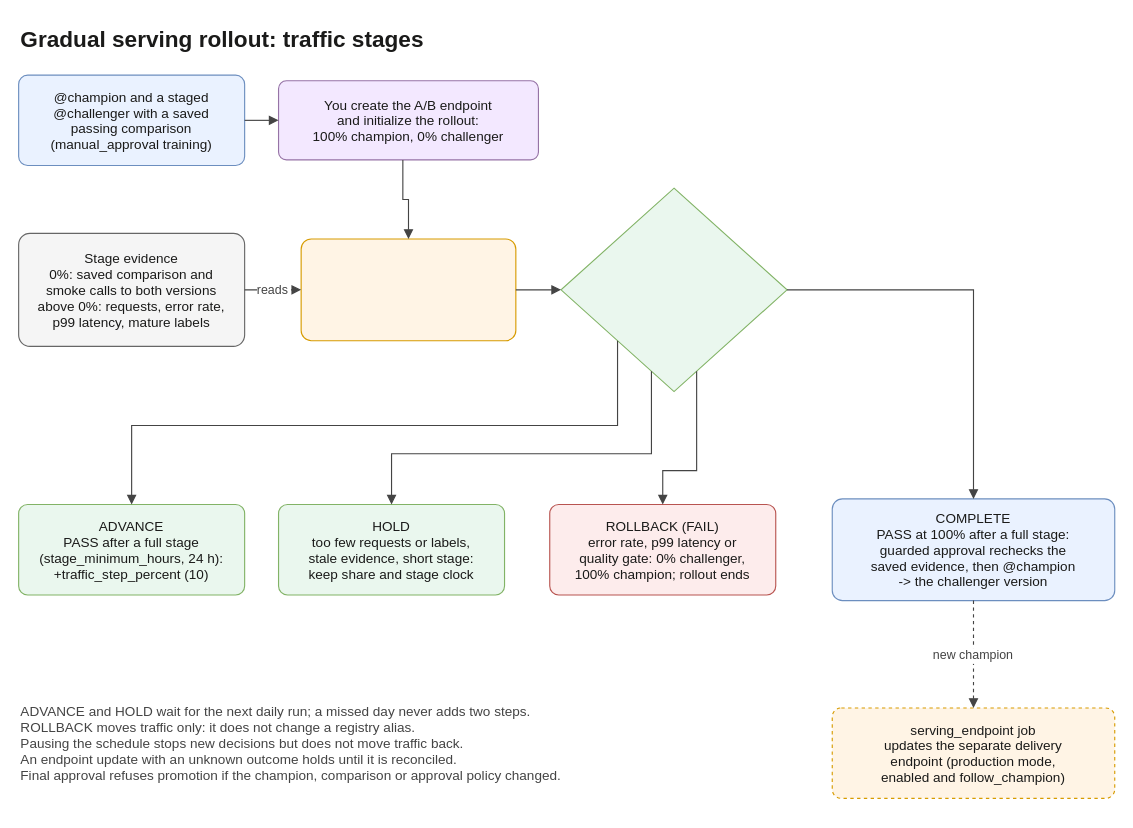
This 1133x828 diagram has some shape labels left out. Here are the shapes that lost their labels. From the top down, the centre of each, then its label:
At point 408,289: "daily_rollout job 04:00 UTC, paused by default; at most one step per run".
At point 673,289: "verdict on fresh, matching evidence".
